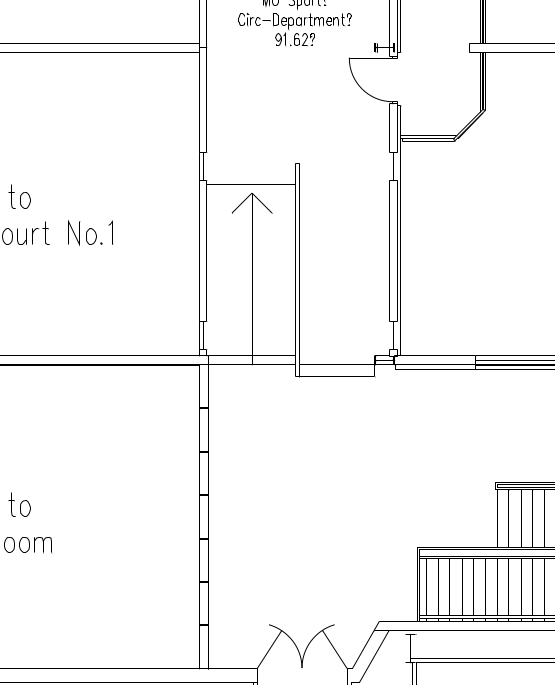door: (247, 615, 349, 668), (336, 54, 391, 108)
